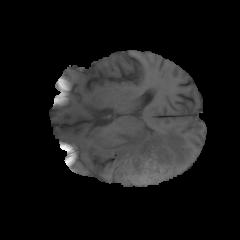glioma: (99, 128, 186, 186)
